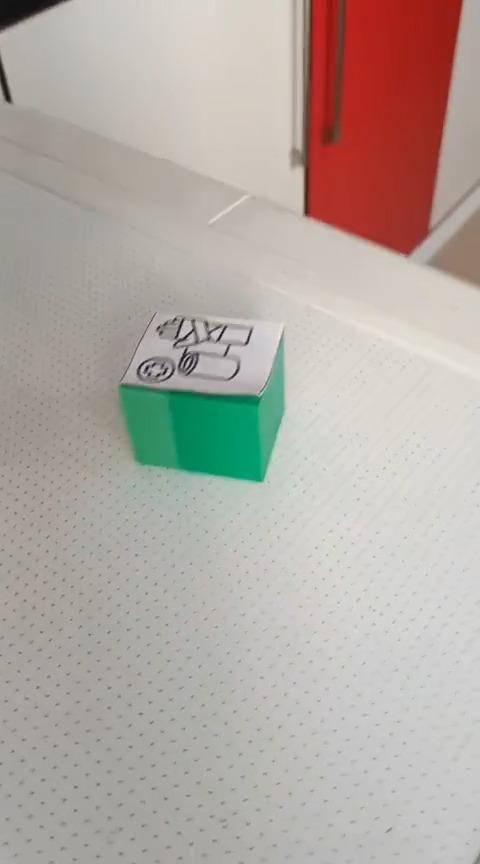Bandages: (117, 310, 284, 482)
